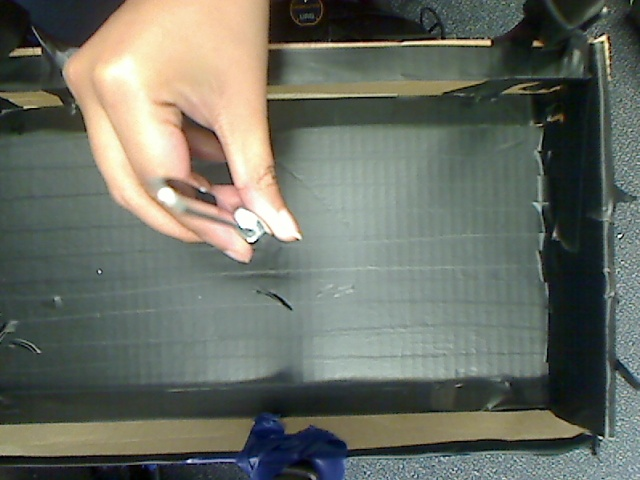knife: (134, 173, 306, 256)
